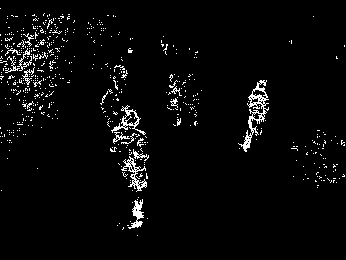person: (109, 108, 151, 229), (242, 76, 269, 154)
